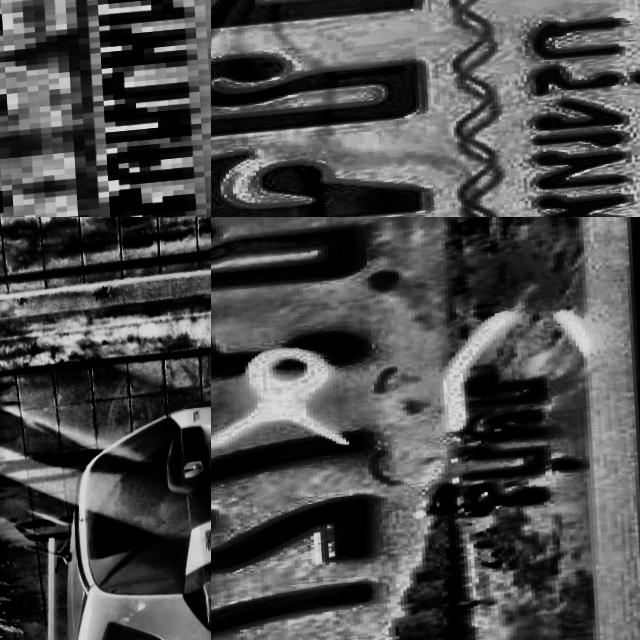license-plate: (211, 217, 640, 640), (211, 0, 640, 217), (0, 0, 211, 217), (193, 439, 211, 512)
